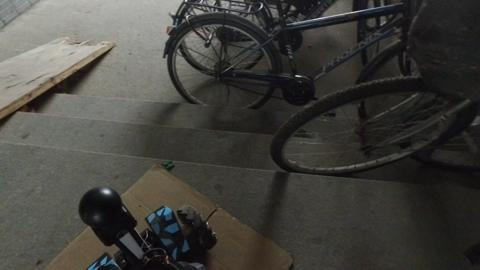bike: (162, 2, 396, 102)
chariot: (76, 183, 219, 270)
